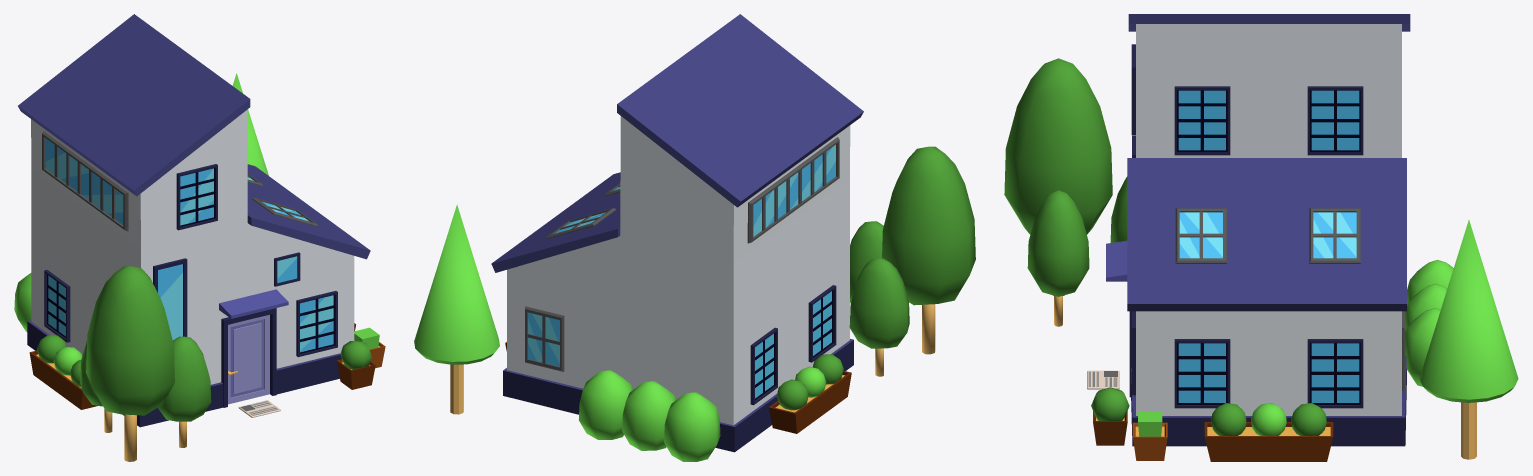
The model's file is main_house.glb.
3 renders of one model, left to right at view 1: azimuth 30°, elevation 25°; view 2: azimuth 150°, elevation 25°; view 3: azimuth 270°, elevation 25°, orthographic. The views are drawn at different scales.
Parts seen in each view (by area): view 1: Prop_ResidentBuilding_02, Prop_Tree_04.001, Prop_RoofWindow_04, Prop_Tree_04.002, Prop_Plant_01, Prop_Plant_03, Prop_Bush_01.001, Prop_Tree_05, Prop_Tree_04.003, Prop_Plant_02, Prop_RoofWindow_05.001, Prop_Magazine; view 2: Prop_ResidentBuilding_02, Prop_Tree_04.001, Prop_Tree_05, Prop_Tree_04.003, Prop_RoofWindow_04, Prop_Plant_01, Prop_Bush_01.001, Prop_Bush_01.002, Prop_Bush_01, Prop_RoofWindow_05.002, Prop_Tree_04.002, Prop_RoofWindow_05; view 3: Prop_ResidentBuilding_02, Prop_Tree_04.001, Prop_Tree_05, Prop_Plant_01.001, Prop_Tree_04.002, Prop_RoofWindow_05.001, Prop_RoofWindow_05, Prop_Plant_03, Prop_Plant_02, Prop_Bush_01.002, Prop_Bush_01.001, Prop_Bush_01 (+2 smaller).
Boxes of the visible parts, left/top/right/bottom form: Prop_ResidentBuilding_02: left=18, top=14, right=370, bottom=427; Prop_Tree_04.001: left=86, top=266, right=174, bottom=461; Prop_RoofWindow_04: left=42, top=131, right=128, bottom=231; Prop_Tree_04.002: left=158, top=336, right=211, bottom=447; Prop_Plant_01: left=29, top=335, right=97, bottom=409; Prop_Plant_03: left=336, top=341, right=375, bottom=389; Prop_Bush_01.001: left=14, top=273, right=31, bottom=331; Prop_Tree_05: left=232, top=73, right=268, bottom=175; Prop_Tree_04.003: left=80, top=342, right=112, bottom=432; Prop_Plant_02: left=354, top=327, right=385, bottom=368; Prop_RoofWindow_05.001: left=252, top=197, right=318, bottom=226; Prop_Magazine: left=238, top=400, right=280, bottom=417; Prop_ResidentBuilding_02: left=491, top=14, right=863, bottom=452; Prop_Tree_04.001: left=882, top=146, right=975, bottom=354; Prop_Tree_05: left=414, top=204, right=499, bottom=414; Prop_Tree_04.003: left=849, top=258, right=909, bottom=376; Prop_RoofWindow_04: left=747, top=137, right=839, bottom=243; Prop_Plant_01: left=769, top=354, right=851, bottom=433; Prop_Bush_01.001: left=664, top=392, right=720, bottom=461; Prop_Bush_01.002: left=579, top=370, right=632, bottom=439; Prop_Bush_01: left=622, top=381, right=675, bottom=450; Prop_RoofWindow_05.002: left=525, top=306, right=564, bottom=371; Prop_Tree_04.002: left=850, top=221, right=883, bottom=303; Prop_RoofWindow_05: left=546, top=208, right=616, bottom=238; Prop_ResidentBuilding_02: left=1106, top=14, right=1410, bottom=446; Prop_Tree_04.001: left=1004, top=58, right=1112, bottom=295; Prop_Tree_05: left=1419, top=220, right=1518, bottom=459; Prop_Plant_01.001: left=1204, top=403, right=1333, bottom=461; Prop_Tree_04.002: left=1027, top=190, right=1089, bottom=326; Prop_RoofWindow_05.001: left=1175, top=208, right=1226, bottom=263; Prop_RoofWindow_05: left=1309, top=208, right=1360, bottom=263; Prop_Plant_03: left=1091, top=387, right=1129, bottom=445; Prop_Plant_02: left=1132, top=411, right=1167, bottom=460; Prop_Bush_01.002: left=1405, top=308, right=1440, bottom=386; Prop_Bush_01.001: left=1407, top=260, right=1453, bottom=305; Prop_Bush_01: left=1405, top=283, right=1446, bottom=330.
Bounding box in the file's own units: 9.56 × 7.93 × 10.05.
Materials: 5 (5 with a texture image).
